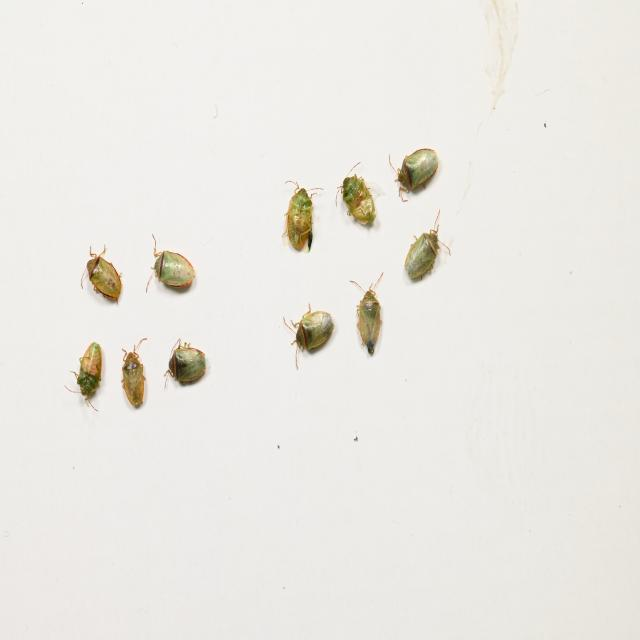stinkbug: (402, 206, 452, 286), (346, 268, 391, 356), (282, 303, 335, 372), (146, 230, 194, 302), (281, 177, 324, 253), (334, 159, 376, 233), (388, 146, 442, 203), (65, 341, 105, 413), (80, 242, 124, 306), (162, 335, 208, 394), (122, 337, 148, 410)
